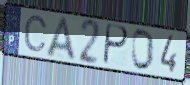2: (77, 17, 101, 67)
4: (159, 34, 179, 76)
A: (44, 15, 78, 63)
C: (23, 14, 49, 53)
O: (130, 28, 156, 72)
P: (101, 22, 130, 67)
